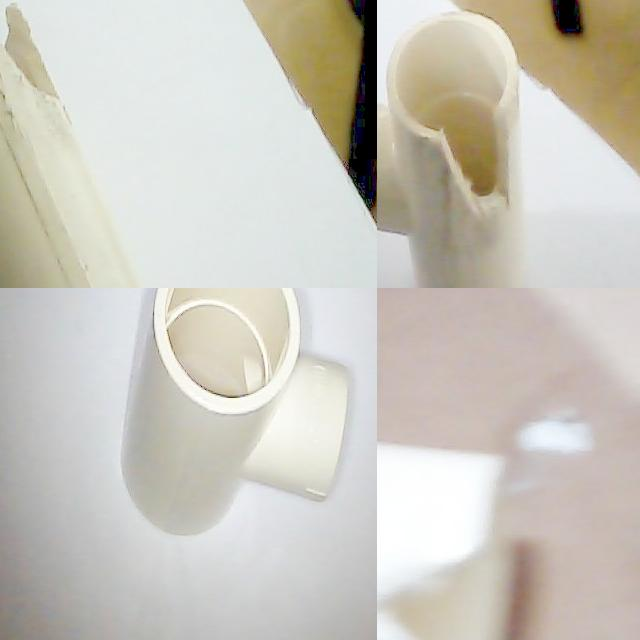Defective: (388, 542, 509, 640), (421, 95, 517, 201), (439, 114, 524, 224), (1, 4, 60, 104)
T Joint: (120, 288, 353, 541), (377, 11, 530, 288), (0, 8, 144, 288), (377, 442, 504, 640)
